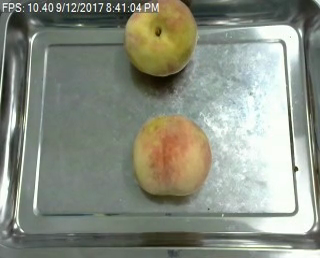Peach: (132, 113, 213, 196), (123, 2, 198, 77)
